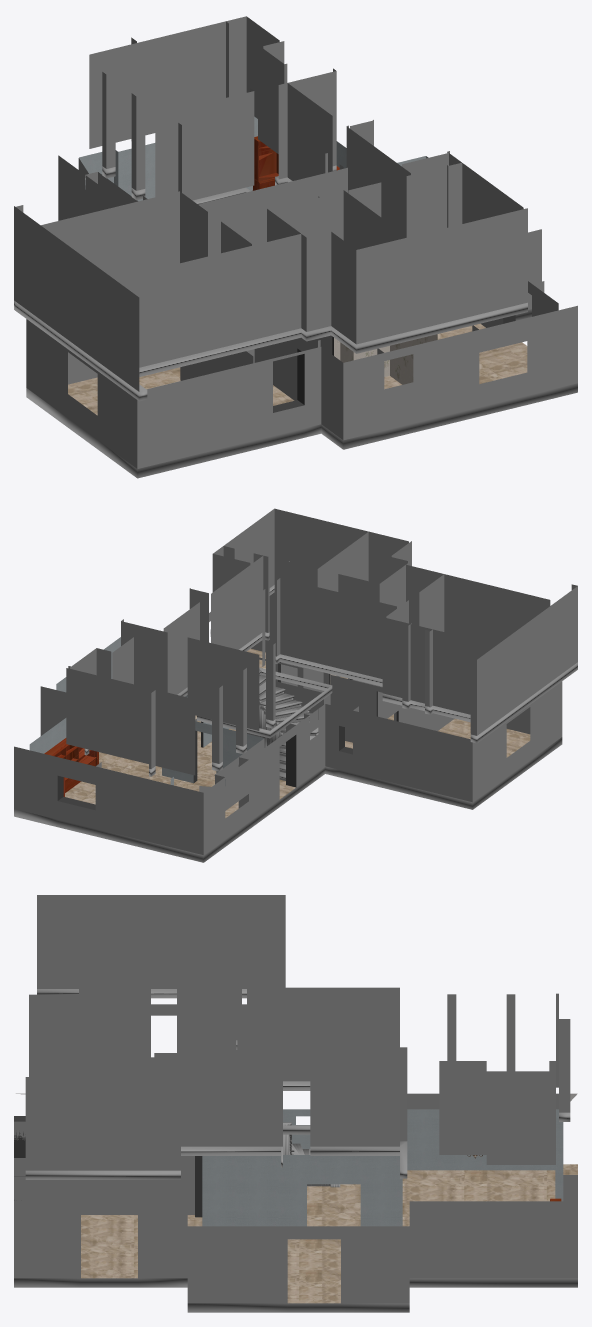
File: housemaker_export.glb
The picture shows the model from 3 angles, top to bottom: view 1: azimuth 30°, elevation 25°; view 2: azimuth 150°, elevation 25°; view 3: azimuth 270°, elevation 25°; orthographic projection. The views are drawn at different scales.
Parts seen in each view (by area): view 1: room_static_15_room_31b659ff9172dee1, pvs_cluster_0c3197bb85405ea8e4ba33ef, pvs_cluster_28de51e83829d557b4757784, pvs_cluster_c0f8c99fd276f153981c84de, pvs_cluster_af1d5c706f44930f6c3a7fdb, pvs_cluster_e0179004f4707038443d134b, pvs_cluster_7b96286c80a48fded9d5629d, pvs_cluster_cdbbedf029c2db8695e16d19, pvs_cluster_4481e81f8f3fd8846945cc62, housemaker_atlas_82670ba7-f511-44c9-b72b-7c51cf8760ca_room_a, pvs_cluster_23cd19a06af29e3f10780978, pvs_cluster_cd2a5bd9eec646b87a9bdb63 (+13 smaller); view 2: room_static_15_room_31b659ff9172dee1, pvs_cluster_034c77b0eeb1d07b751c721d, room_static_2_room_2b0a8e3883e423c8, pvs_cluster_8a49632845a811c103345c45, pvs_cluster_617d64fdfe486fe930d8b35f, housemaker_atlas_82670ba7-f511-44c9-b72b-7c51cf8760ca_room_a, pvs_cluster_0a968205395bfafeb00cb804, pvs_cluster_978c5ad2ded2a933756f6873, pvs_cluster_4481e81f8f3fd8846945cc62, pvs_cluster_e8f338c0365e2ef2c8dd8a09, room_static_1_room_a98b82358c6d3a95, pvs_cluster_05fc8adb11f4d4d703c56735 (+17 smaller); view 3: room_static_15_room_31b659ff9172dee1, housemaker_atlas_82670ba7-f511-44c9-b72b-7c51cf8760ca_room_a, pvs_cluster_7a28e50528c681aebbdfb396, pvs_cluster_5cac61465315b73bccfc7a08, pvs_cluster_d7de804297850096d38e881f, pvs_cluster_acf871b99b4ab7aafa3910e6, pvs_cluster_653e008f83bd32f3d3a2ea72, room_static_7_room_e89602ca24d22eac, pvs_cluster_cdb88c8aebd937b7d7d755aa, pvs_cluster_17c8b6e37c22a1e7baba562d, housemaker_atlas_82670ba7-f511-44c9-b72b-7c51cf8760ca_room_e, pvs_cluster_5812d3e81adabc9063039be6 (+9 smaller).
Part boxes in pixels (bbox=[...]): room_static_15_room_31b659ff9172dee1: bbox=[14, 16, 527, 401]; pvs_cluster_0c3197bb85405ea8e4ba33ef: bbox=[99, 358, 272, 478]; pvs_cluster_28de51e83829d557b4757784: bbox=[138, 359, 272, 468]; pvs_cluster_c0f8c99fd276f153981c84de: bbox=[480, 305, 577, 406]; pvs_cluster_af1d5c706f44930f6c3a7fdb: bbox=[384, 330, 478, 439]; pvs_cluster_e0179004f4707038443d134b: bbox=[413, 325, 526, 423]; pvs_cluster_7b96286c80a48fded9d5629d: bbox=[343, 353, 384, 449]; pvs_cluster_cdbbedf029c2db8695e16d19: bbox=[304, 347, 343, 449]; pvs_cluster_4481e81f8f3fd8846945cc62: bbox=[68, 371, 137, 477]; housemaker_atlas_82670ba7-f511-44c9-b72b-7c51cf8760ca_room_a: bbox=[79, 116, 428, 201]; pvs_cluster_23cd19a06af29e3f10780978: bbox=[27, 322, 97, 448]; pvs_cluster_cd2a5bd9eec646b87a9bdb63: bbox=[26, 319, 67, 426]; room_static_15_room_31b659ff9172dee1: bbox=[66, 508, 577, 775]; pvs_cluster_034c77b0eeb1d07b751c721d: bbox=[353, 710, 472, 809]; room_static_2_room_2b0a8e3883e423c8: bbox=[247, 657, 396, 780]; pvs_cluster_8a49632845a811c103345c45: bbox=[95, 767, 202, 861]; pvs_cluster_617d64fdfe486fe930d8b35f: bbox=[96, 766, 203, 862]; housemaker_atlas_82670ba7-f511-44c9-b72b-7c51cf8760ca_room_a: bbox=[29, 637, 264, 818]; pvs_cluster_0a968205395bfafeb00cb804: bbox=[14, 746, 57, 826]; pvs_cluster_978c5ad2ded2a933756f6873: bbox=[225, 737, 279, 846]; pvs_cluster_4481e81f8f3fd8846945cc62: bbox=[507, 702, 562, 777]; pvs_cluster_e8f338c0365e2ef2c8dd8a09: bbox=[203, 790, 225, 862]; room_static_1_room_a98b82358c6d3a95: bbox=[379, 703, 530, 734]; pvs_cluster_05fc8adb11f4d4d703c56735: bbox=[318, 704, 338, 778]; room_static_15_room_31b659ff9172dee1: bbox=[25, 895, 570, 1170]; housemaker_atlas_82670ba7-f511-44c9-b72b-7c51cf8760ca_room_a: bbox=[202, 1109, 563, 1303]; pvs_cluster_7a28e50528c681aebbdfb396: bbox=[409, 1201, 577, 1287]; pvs_cluster_5cac61465315b73bccfc7a08: bbox=[410, 1201, 577, 1287]; pvs_cluster_d7de804297850096d38e881f: bbox=[14, 1201, 80, 1287]; pvs_cluster_acf871b99b4ab7aafa3910e6: bbox=[187, 1227, 287, 1312]; pvs_cluster_653e008f83bd32f3d3a2ea72: bbox=[188, 1226, 287, 1312]; room_static_7_room_e89602ca24d22eac: bbox=[28, 1156, 194, 1214]; pvs_cluster_cdb88c8aebd937b7d7d755aa: bbox=[287, 1227, 408, 1312]; pvs_cluster_17c8b6e37c22a1e7baba562d: bbox=[341, 1226, 409, 1312]; housemaker_atlas_82670ba7-f511-44c9-b72b-7c51cf8760ca_room_e: bbox=[81, 1217, 137, 1278]; pvs_cluster_5812d3e81adabc9063039be6: bbox=[81, 1202, 186, 1287].
Size of the model in its own units: 31.91 by 12.16 by 32.79.
3 materials, 3 textured.
